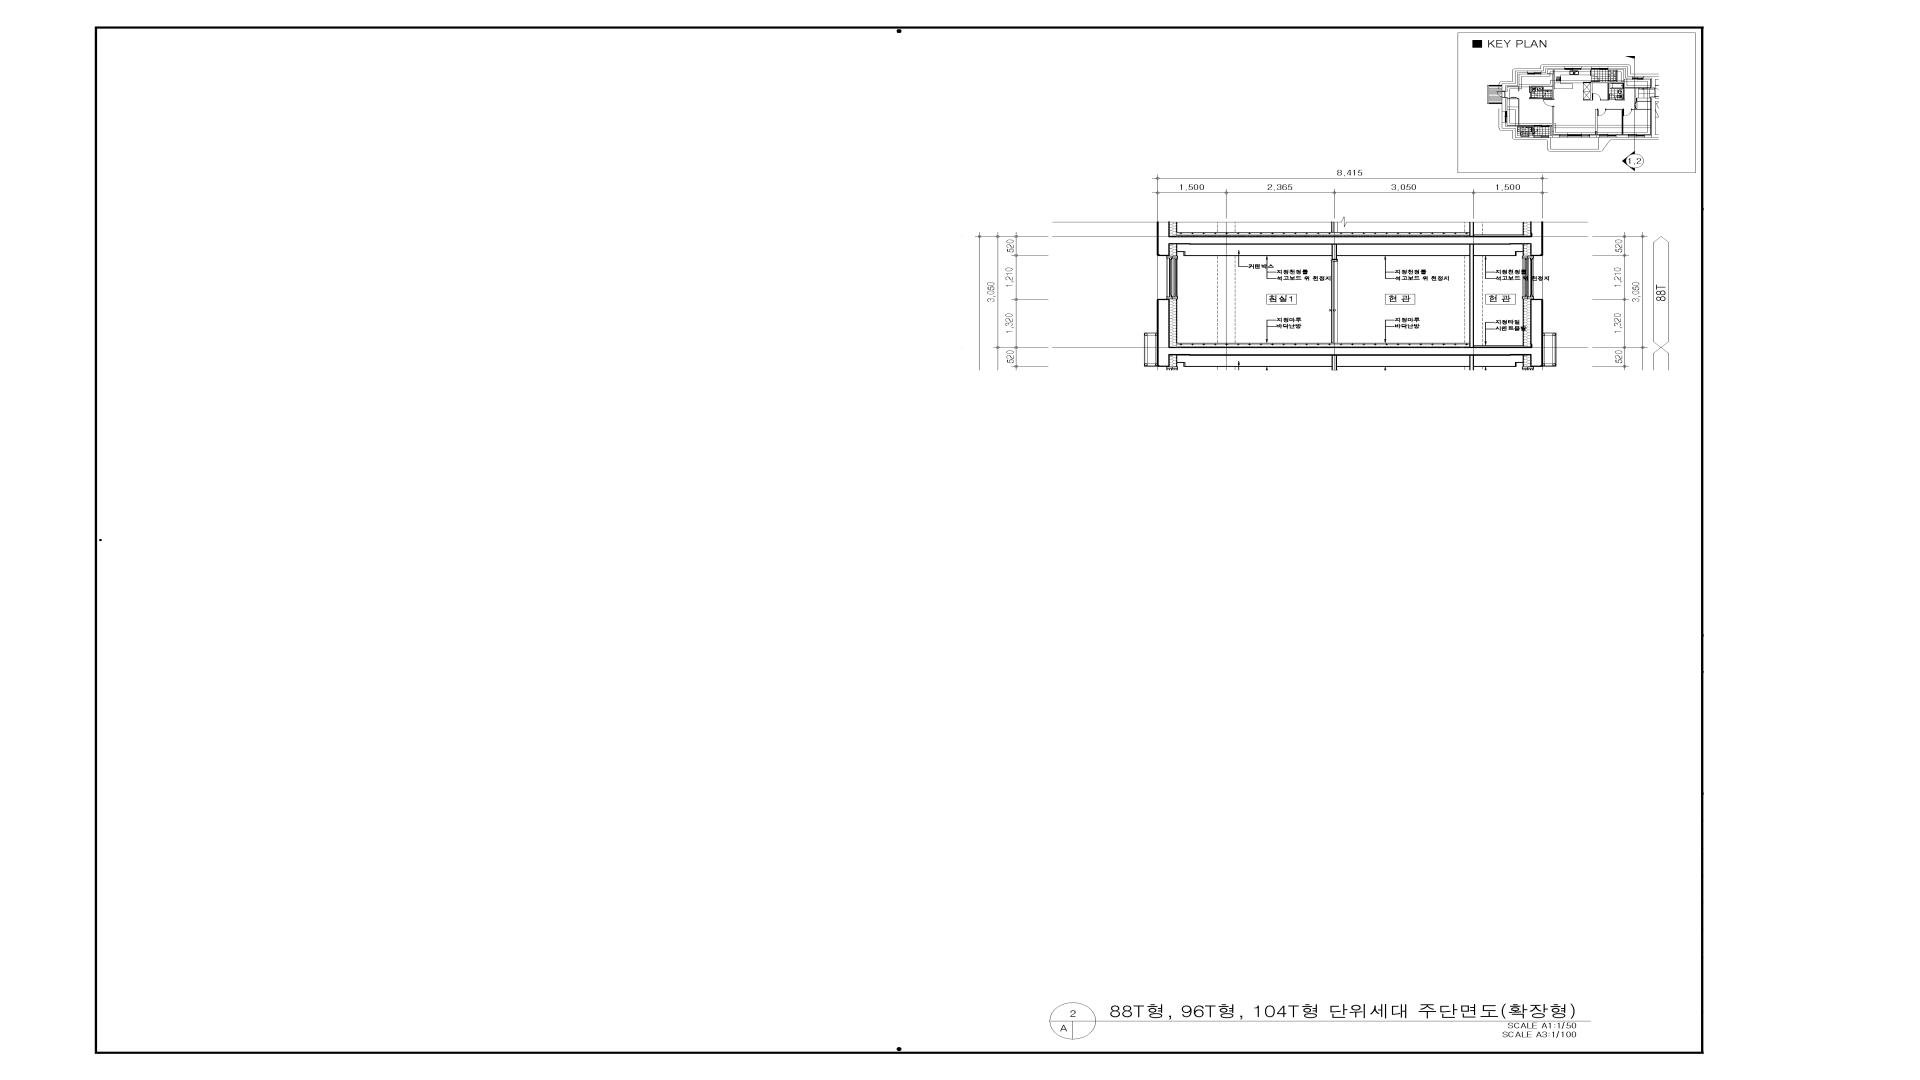wall: (1156, 299, 1544, 356), (1156, 236, 1543, 256), (1470, 245, 1474, 347), (1469, 245, 1470, 347), (1332, 245, 1335, 260), (1335, 245, 1337, 260)
window: (1522, 256, 1543, 299), (1158, 256, 1178, 299), (1331, 260, 1338, 344)
